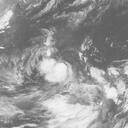cyclone: (30, 52, 73, 90)
